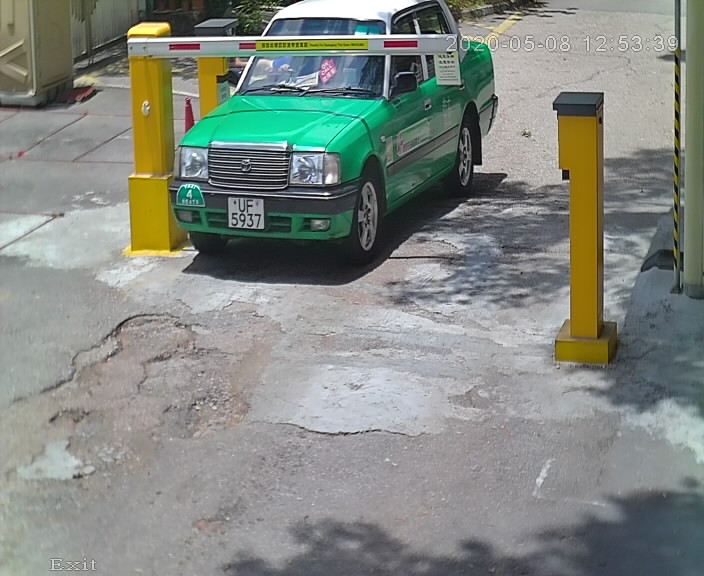taxi: (147, 2, 515, 285)
taxi_mark: (172, 179, 215, 214)
